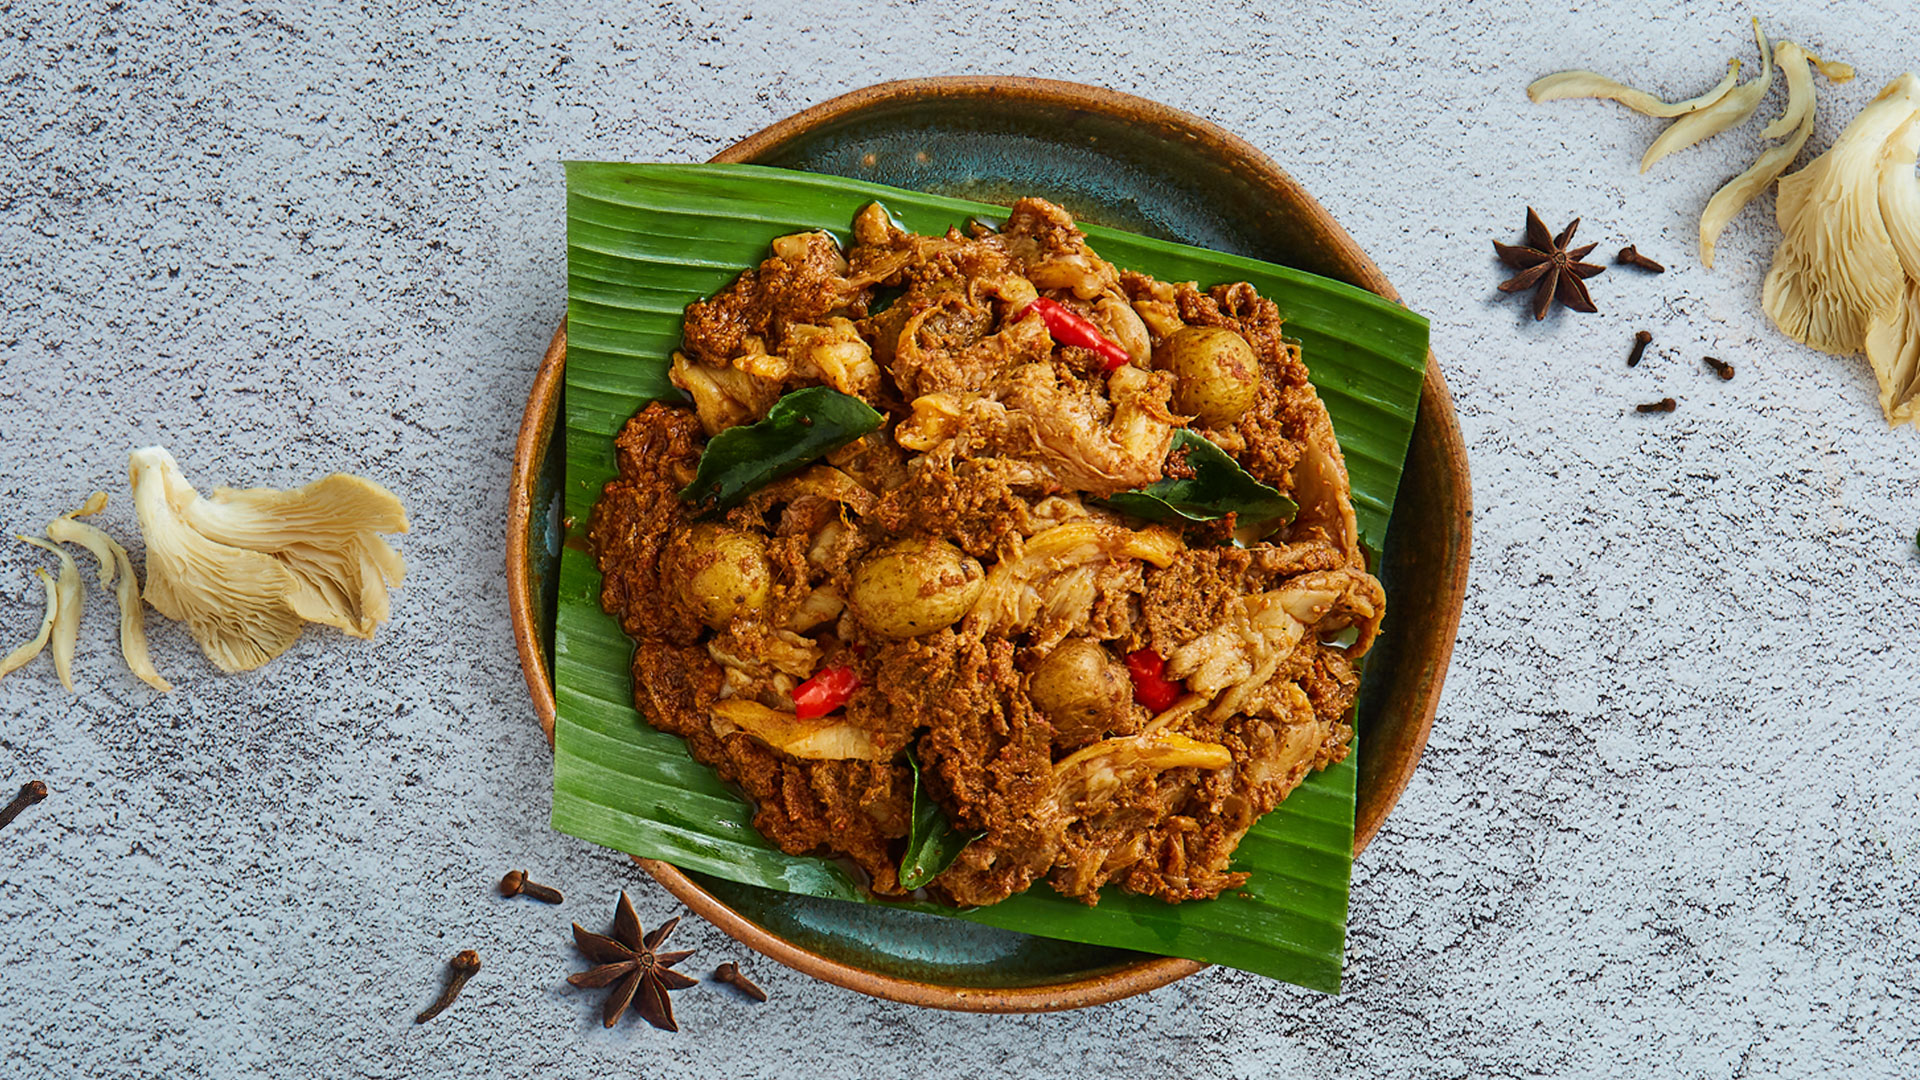rendang: (553, 178, 1452, 919)
